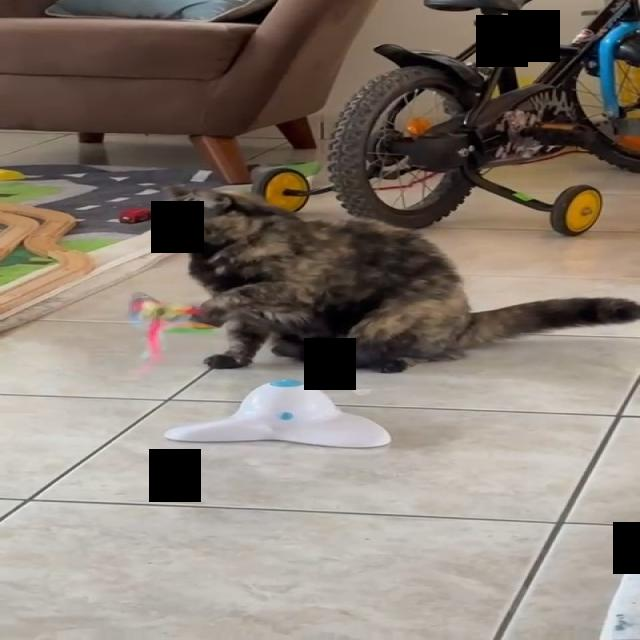authorized: (153, 182, 639, 374)
